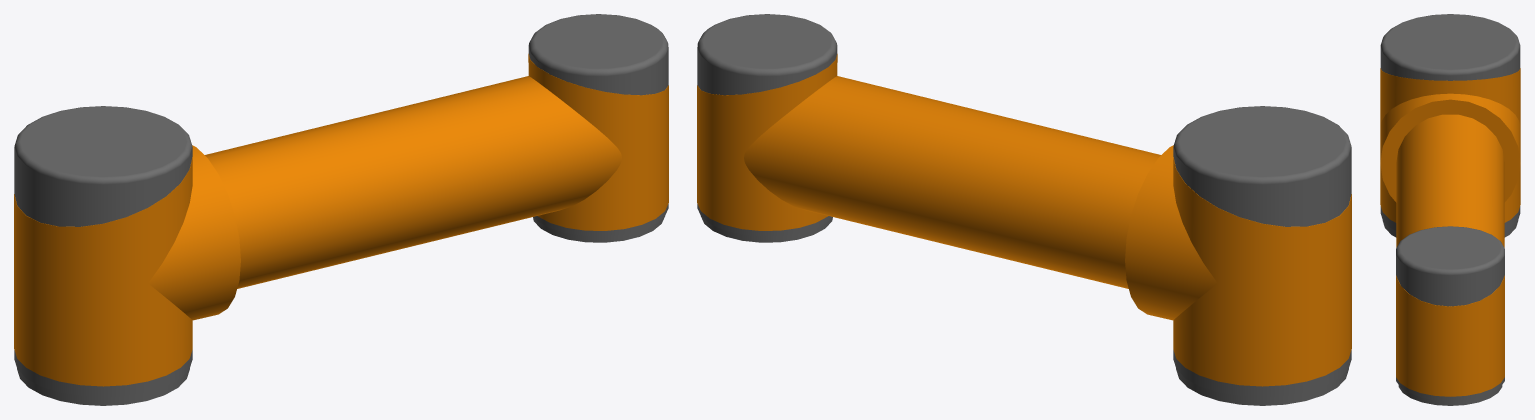
3 views of the same model, side by side, from view 1: azimuth 30°, elevation 25°; view 2: azimuth 150°, elevation 25°; view 3: azimuth 270°, elevation 25° (orthographic). The views are drawn at different scales.
Visible parts, largest first — view 1: NONE; view 2: NONE; view 3: NONE.
Boxes of the visible parts, x1=… form: NONE: x1=14, y1=14, x2=668, y2=405; NONE: x1=697, y1=14, x2=1351, y2=405; NONE: x1=1380, y1=14, x2=1520, y2=405.
Size of the model in its own units: 0.614 by 0.15 by 0.211.
